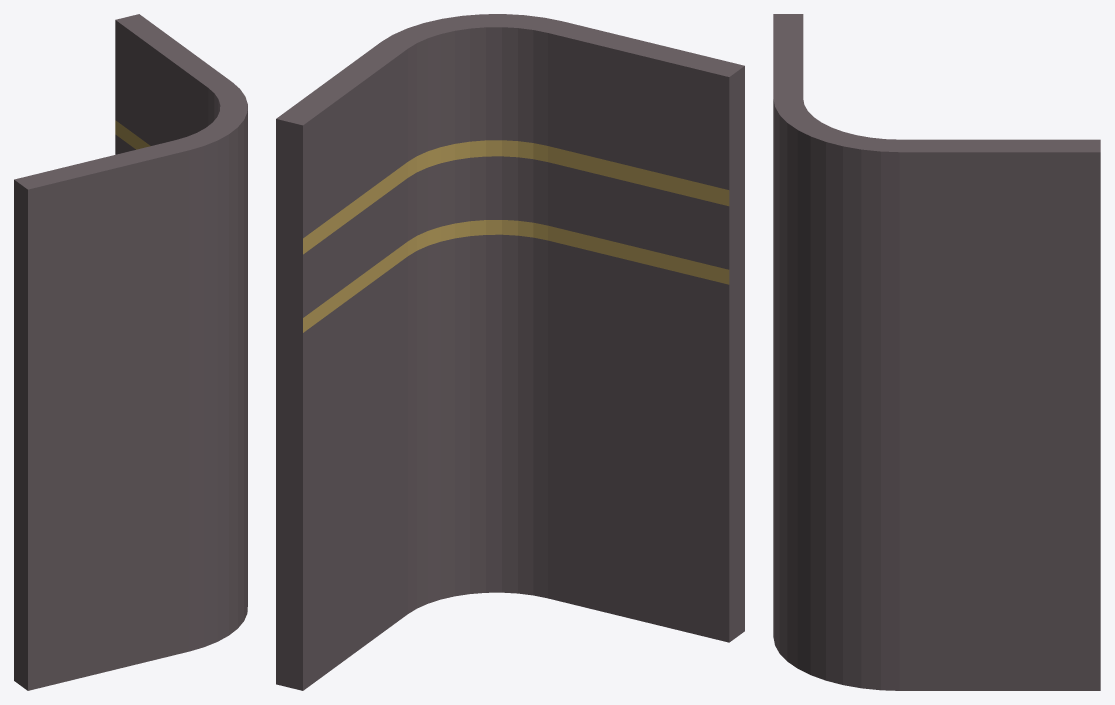
File: corner_wall - Copia.fbx
3 views of the same model, side by side, from view 1: azimuth 30°, elevation 25°; view 2: azimuth 150°, elevation 25°; view 3: azimuth 270°, elevation 25° (orthographic). The views are drawn at different scales.
Parts seen in each view (by area): view 1: Plane.001; view 2: Plane.001; view 3: Plane.001.
Boxes of the visible parts, x1,y1,x2,y2 form: Plane.001: [14, 14, 247, 690]; Plane.001: [276, 14, 744, 690]; Plane.001: [773, 14, 1100, 690].
Size of the model in its own units: 110 by 200 by 110.
